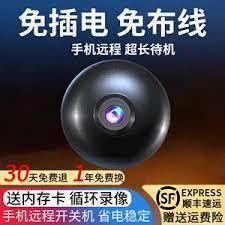maru: (59, 57, 175, 173)
